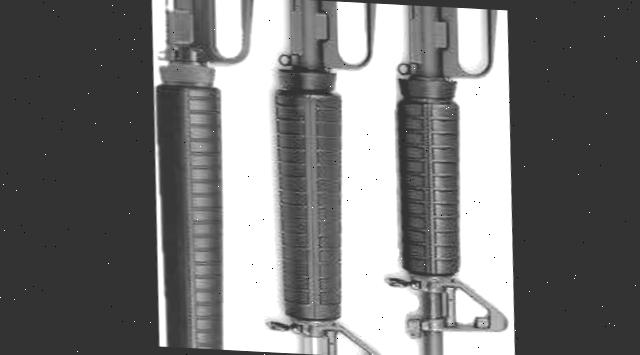rifle: (342, 1, 519, 355), (241, 0, 388, 355), (133, 0, 278, 351)
